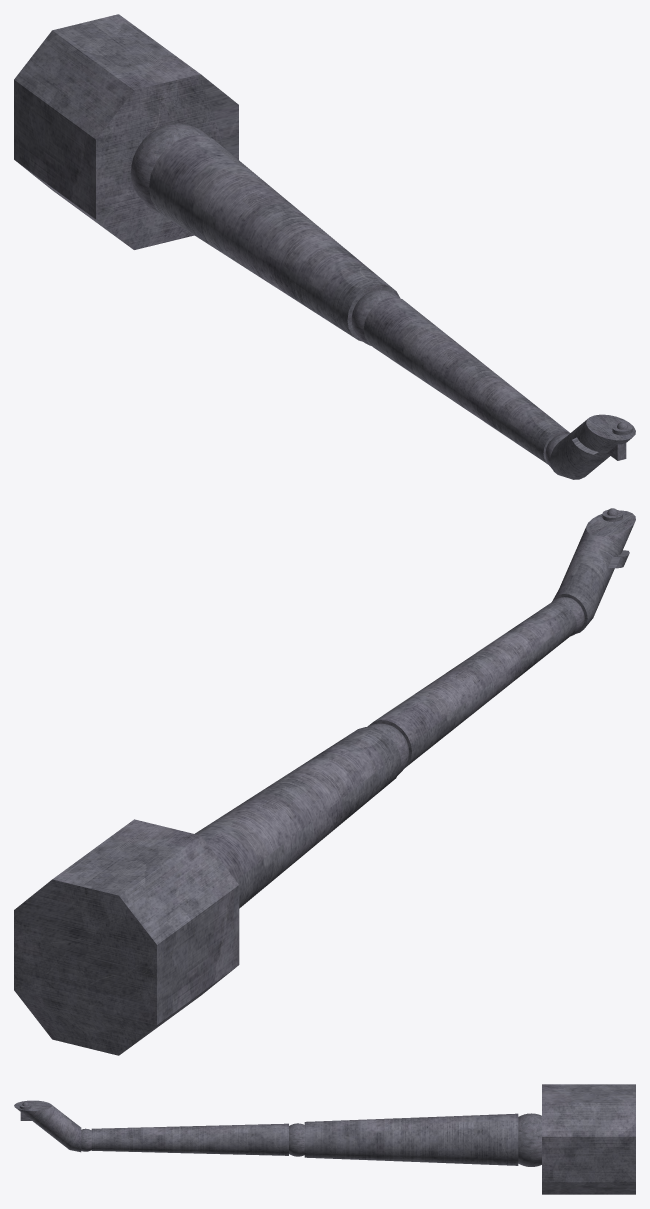
The model's file is ControllerLeftArm.fbx.
3 renders of one model, top to bottom at view 1: azimuth 30°, elevation 25°; view 2: azimuth 150°, elevation 25°; view 3: azimuth 270°, elevation 25°, orthographic. The views are drawn at different scales.
Visible parts, largest first — view 1: Base, Bicep, Forearm, polySurface5, ShoulderJoint, Elbow; view 2: Base, Bicep, Forearm, polySurface5; view 3: Base, Bicep, Forearm, polySurface5, ShoulderJoint, Elbow, Wrist.
Part boxes in pixels (x1,y1,x2,y2): Base: (14,14,238,249); Bicep: (149,135,399,341); Forearm: (363,297,570,464); polySurface5: (550,414,635,479); ShoulderJoint: (131,123,209,213); Elbow: (351,289,400,345); Base: (14,819,239,1055); Bicep: (195,727,401,908); Forearm: (368,602,576,768); polySurface5: (552,510,635,633); Base: (542,1084,635,1194); Bicep: (304,1113,518,1165); Forearm: (91,1123,288,1155); polySurface5: (14,1100,81,1152); ShoulderJoint: (518,1113,541,1166); Elbow: (289,1123,304,1156); Wrist: (81,1128,91,1151).
Bounding box in the file's own units: 0.1727 × 0.1846 × 1.13.
